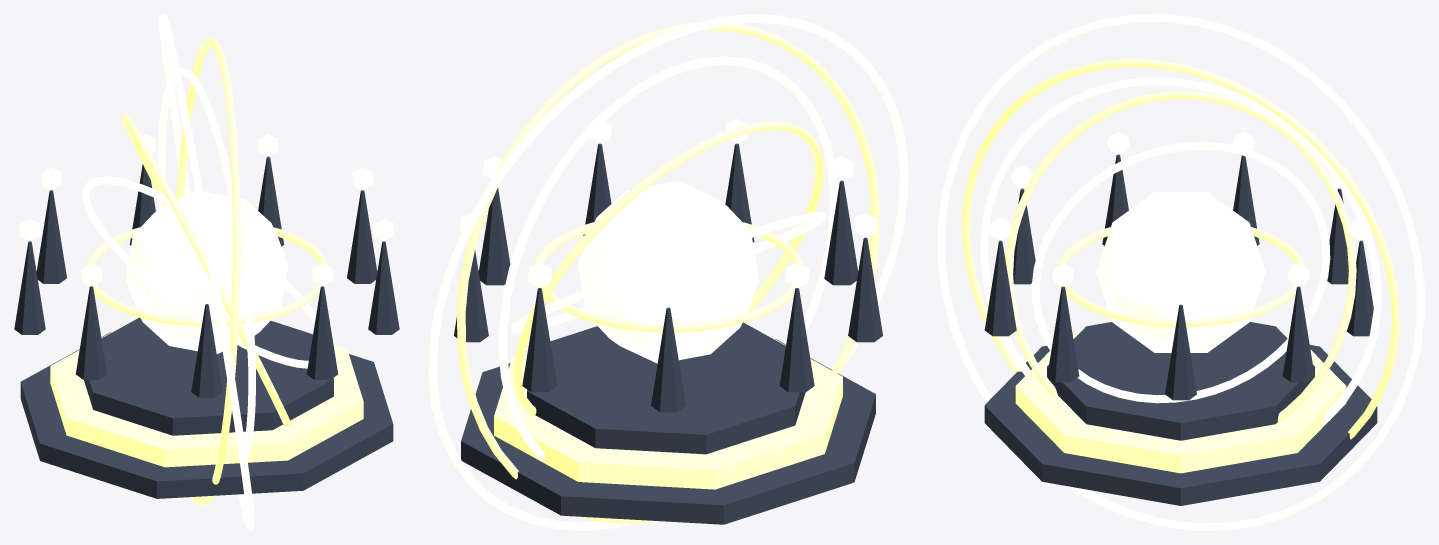
Rendered from gpu-blender-totem.glb.
The picture shows the model from 3 angles, left to right: view 1: azimuth 30°, elevation 25°; view 2: azimuth 150°, elevation 25°; view 3: azimuth 270°, elevation 25°; orthographic projection. The views are drawn at different scales.
Parts seen in each view (by area): view 1: Cylinder.002, Cylinder, SovereignCore_agent-capsule-jail, Cylinder.001, Torus.005, Torus.004, Torus.003, Torus.001, Torus.002, Torus, Cone.006, Cone.004 (+7 smaller); view 2: Cylinder.002, SovereignCore_agent-capsule-jail, Cylinder, Cylinder.001, Torus.005, Torus.004, Torus.003, Torus.002, Torus.001, Torus, Cone.003, Cone.005 (+7 smaller); view 3: SovereignCore_agent-capsule-jail, Cylinder.002, Cylinder, Cylinder.001, Torus.005, Torus.004, Torus.003, Torus.002, Torus.001, Torus, Cone, Cone.001 (+7 smaller).
Boxes of the visible parts, x1,y1,x2,y2 form: Cylinder.002: [84, 317, 333, 435]; Cylinder: [20, 332, 393, 498]; SovereignCore_agent-capsule-jail: [125, 191, 288, 353]; Cylinder.001: [50, 324, 363, 467]; Torus.005: [159, 14, 254, 530]; Torus.004: [176, 38, 240, 506]; Torus.003: [158, 68, 255, 459]; Torus.001: [82, 176, 316, 368]; Torus.002: [122, 114, 290, 426]; Torus: [85, 227, 327, 326]; Cone.006: [191, 304, 222, 397]; Cone.004: [14, 241, 45, 334]; Cylinder.002: [527, 322, 805, 454]; SovereignCore_agent-capsule-jail: [578, 181, 758, 363]; Cylinder: [461, 339, 875, 524]; Cylinder.001: [494, 330, 842, 489]; Torus.005: [428, 14, 908, 530]; Torus.004: [457, 22, 879, 523]; Torus.003: [498, 56, 838, 461]; Torus.002: [513, 121, 823, 415]; Torus.001: [511, 211, 825, 333]; Torus: [533, 222, 803, 332]; Cone.003: [651, 307, 685, 412]; Cone.005: [848, 237, 882, 342]; SovereignCore_agent-capsule-jail: [1096, 192, 1265, 352]; Cylinder.002: [1047, 322, 1314, 440]; Cylinder: [984, 345, 1377, 505]; Cylinder.001: [1015, 334, 1346, 473]; Torus.005: [937, 14, 1424, 530]; Torus.004: [962, 59, 1399, 439]; Torus.003: [980, 77, 1381, 423]; Torus.002: [1006, 90, 1356, 423]; Torus.001: [1031, 141, 1330, 403]; Torus: [1057, 227, 1304, 327]; Cone: [1165, 304, 1196, 400]; Cone.001: [1282, 286, 1314, 382].
Bounding box in the file's own units: 4.41 × 5.93 × 5.46.
